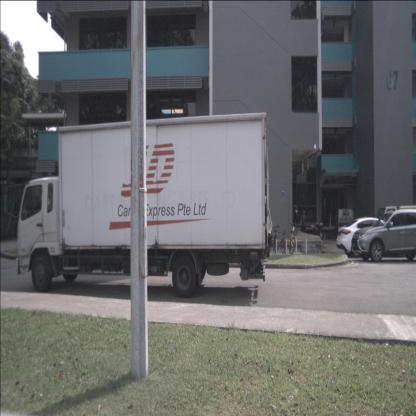human-pedestrian-adult: (300, 209, 308, 236), (294, 205, 299, 228)
vehicle-car: (350, 209, 416, 263), (336, 217, 404, 258)
vehicle-motorcycle: (311, 222, 324, 241)
vehicle-truck: (15, 112, 274, 298), (376, 206, 416, 242)
